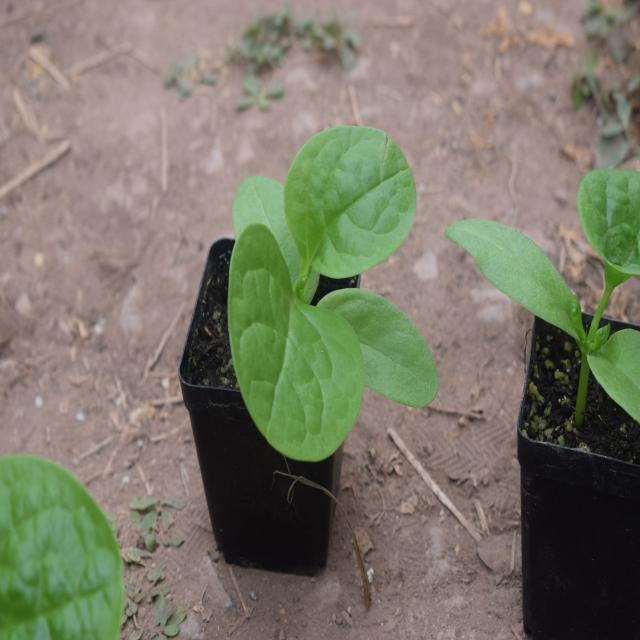Ceylon spinach: (189, 117, 449, 461)
